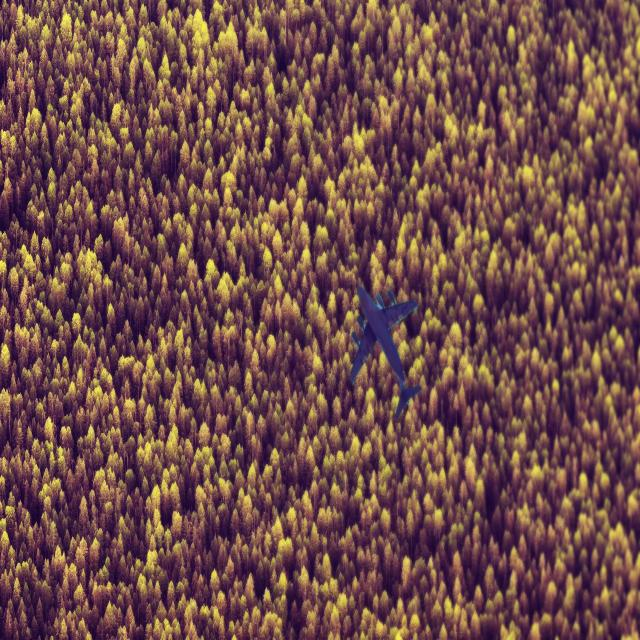airplane: (349, 283, 422, 420)
